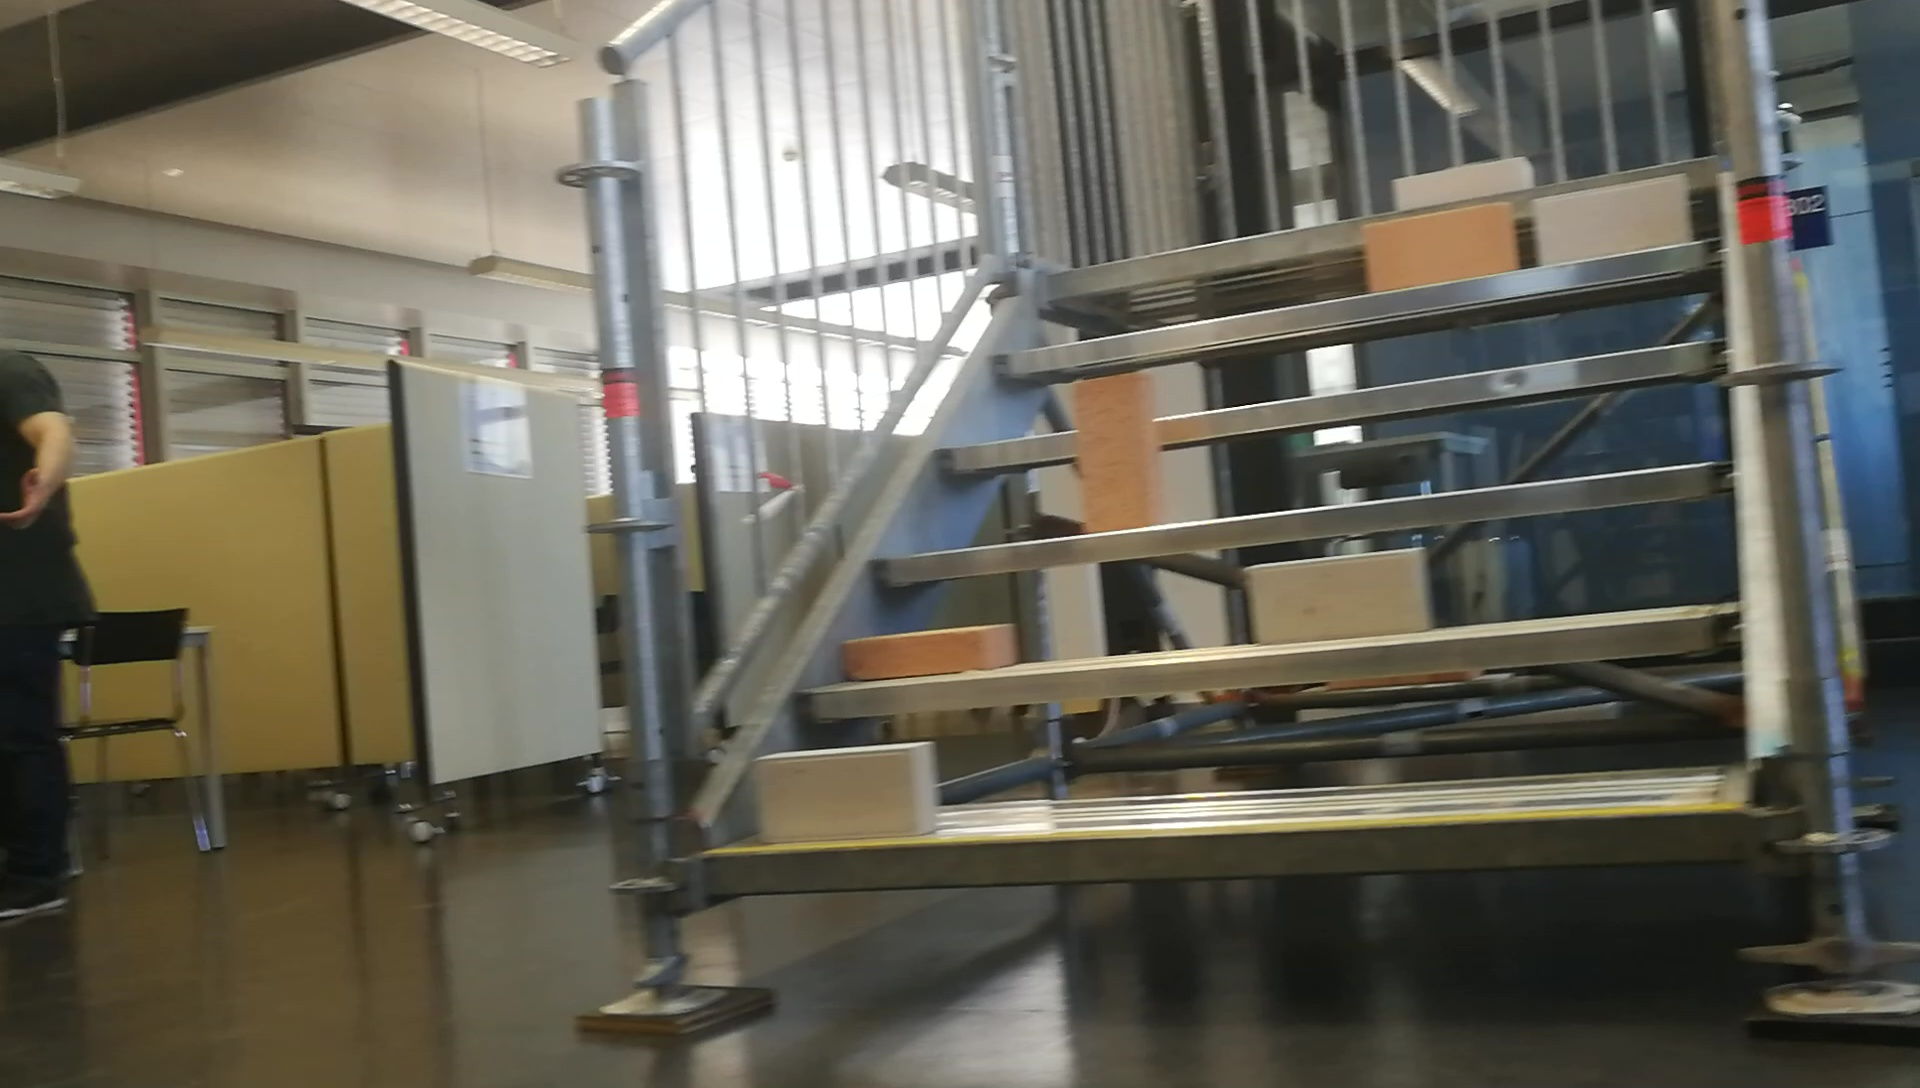brick: (1251, 543, 1424, 642), (756, 746, 935, 841), (1365, 200, 1515, 293), (1072, 373, 1158, 531), (1538, 173, 1687, 260), (847, 620, 1011, 675), (1393, 156, 1527, 206)
edge: (874, 460, 1733, 591), (793, 608, 1742, 720), (942, 338, 1725, 472), (992, 237, 1725, 376), (700, 810, 1753, 890)
stairs: (553, 3, 1837, 1041)
steps: (695, 148, 1775, 909)
